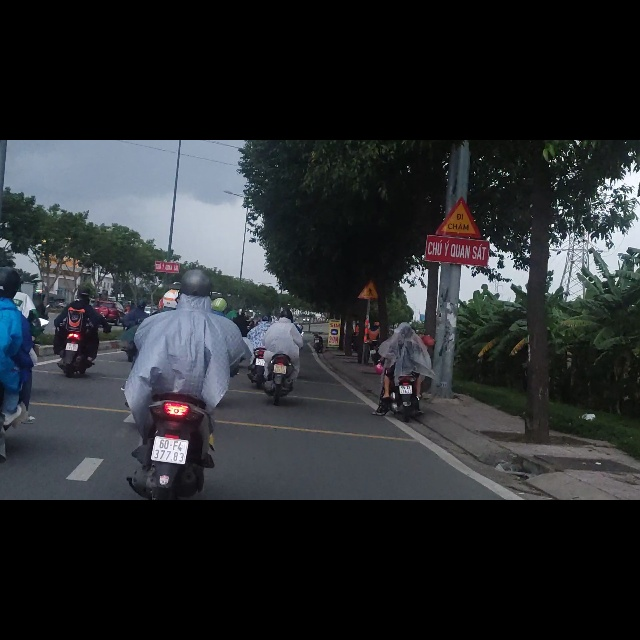bien_nguy_hiem: (435, 100, 482, 173), (359, 247, 381, 283)
